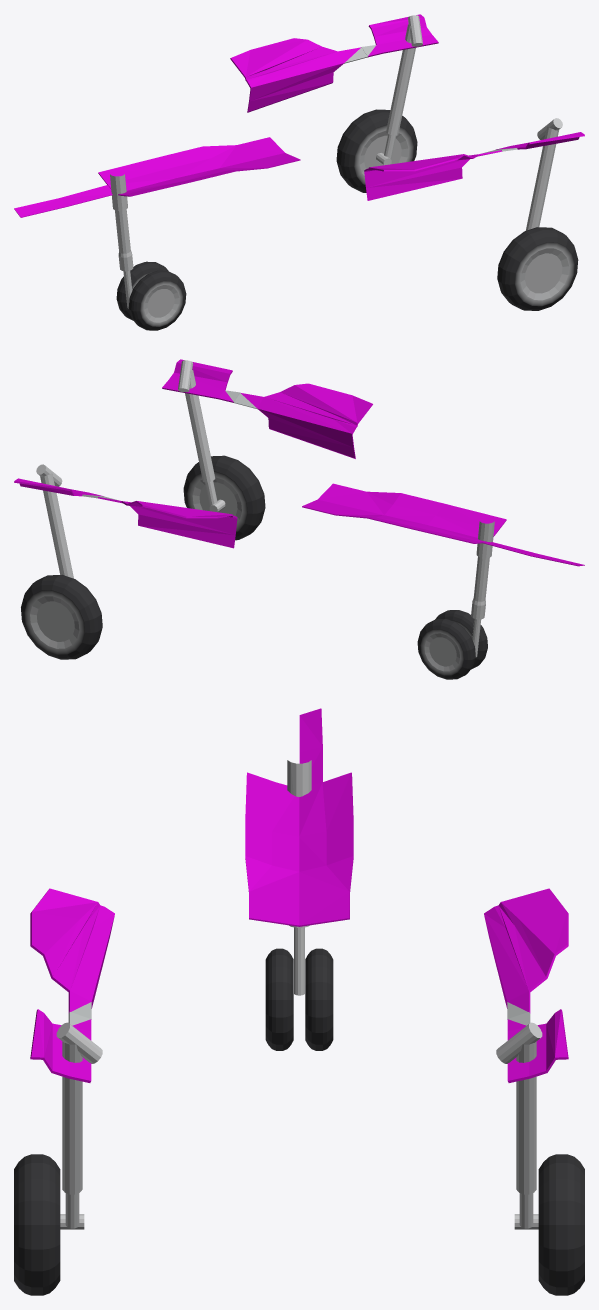
The model's file is mig29.gear.glb.
3 renders of one model, top to bottom at view 1: azimuth 30°, elevation 25°; view 2: azimuth 150°, elevation 25°; view 3: azimuth 270°, elevation 25°, orthographic. The views are drawn at different scales.
Visible parts, largest first — view 1: gear; view 2: gear; view 3: gear.
Boxes of the visible parts, box(x1,y1,x2,y2) form: gear: box(14, 14, 584, 330); gear: box(14, 359, 584, 679); gear: box(14, 708, 584, 1295).
Size of the model in its own units: 5.57 by 1.95 by 3.5.
